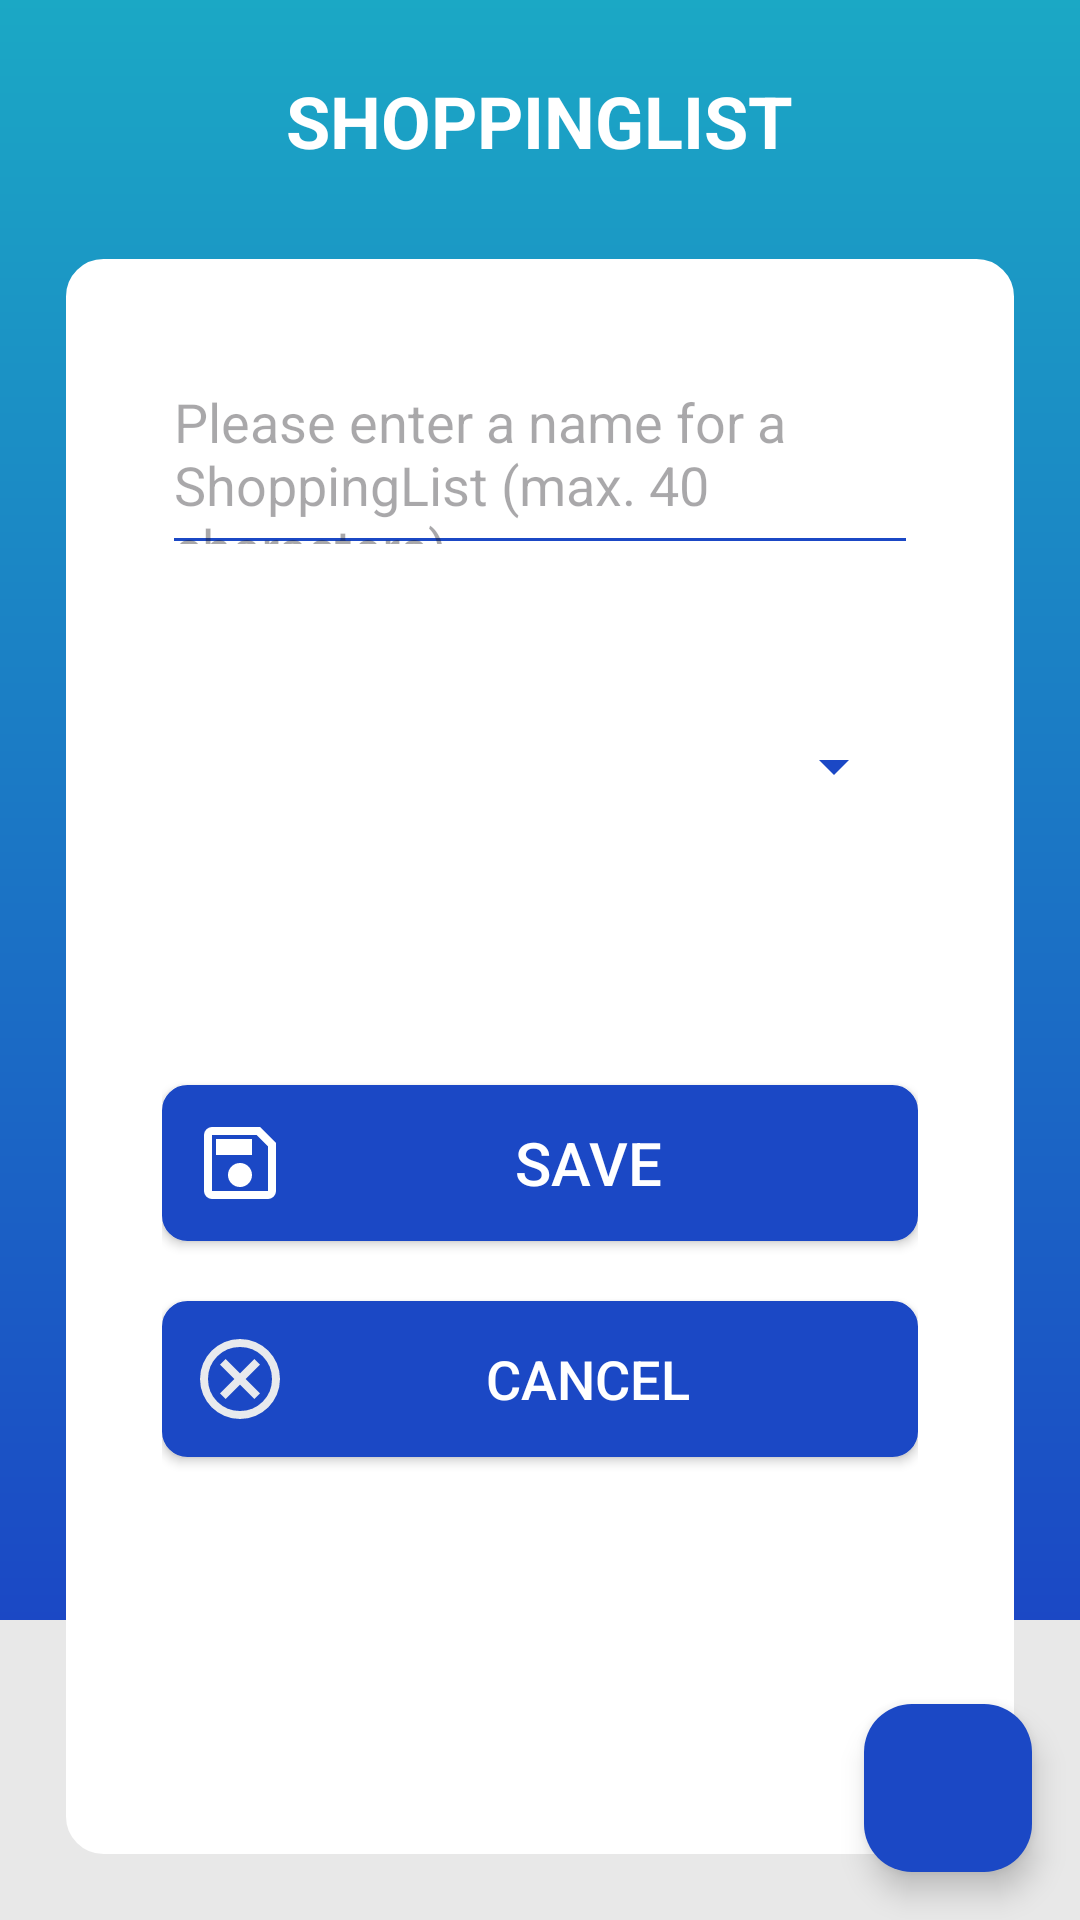

Screen size 1080w x 1920h. Icon name, then its box in pixels as box=[x1, y1, x2, y2]:
arrow drop down: box=[819, 760, 849, 775]
